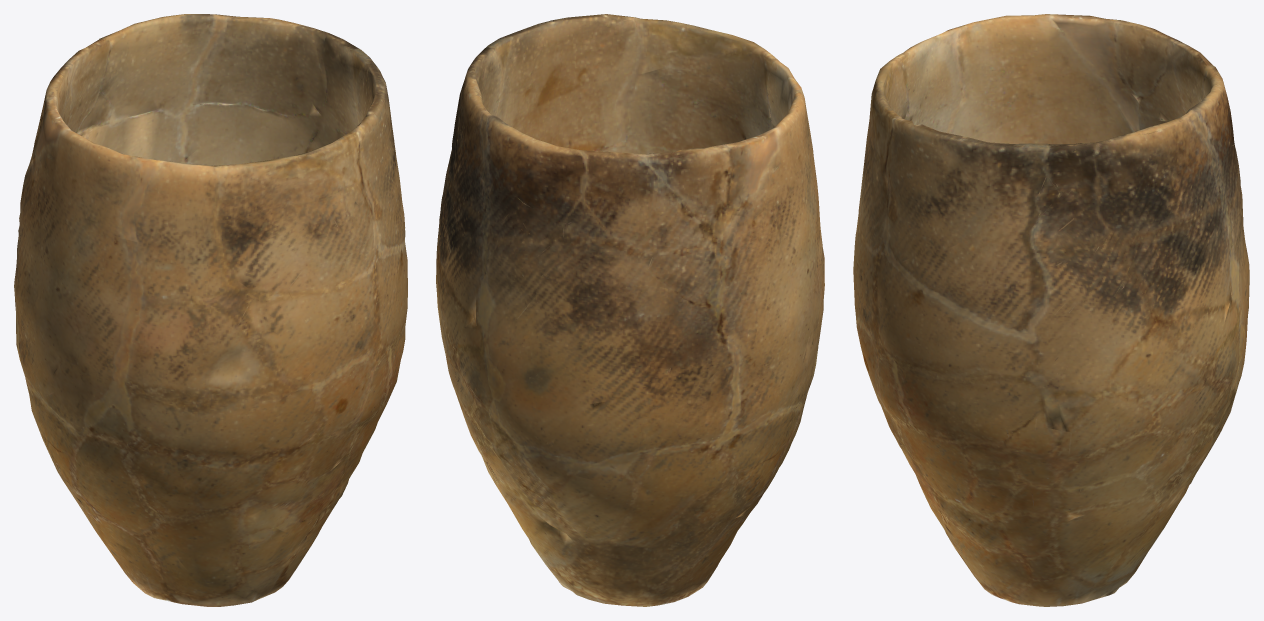
3 renders of one model, left to right at view 1: azimuth 30°, elevation 25°; view 2: azimuth 150°, elevation 25°; view 3: azimuth 270°, elevation 25°, orthographic.
Parts seen in each view (by area): view 1: IN0220_low; view 2: IN0220_low; view 3: IN0220_low.
Part boxes in pixels (bbox=[...]): IN0220_low: bbox=[14, 14, 407, 606]; IN0220_low: bbox=[436, 14, 824, 606]; IN0220_low: bbox=[853, 14, 1249, 606].
Bounding box in the file's own units: 210 × 292 × 210.
1 material, 1 textured.
